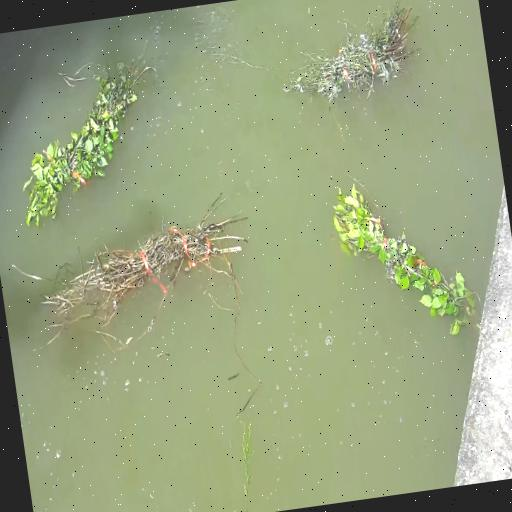twig: (320, 164, 482, 353), (58, 204, 238, 329), (20, 67, 160, 226), (299, 14, 431, 117)
